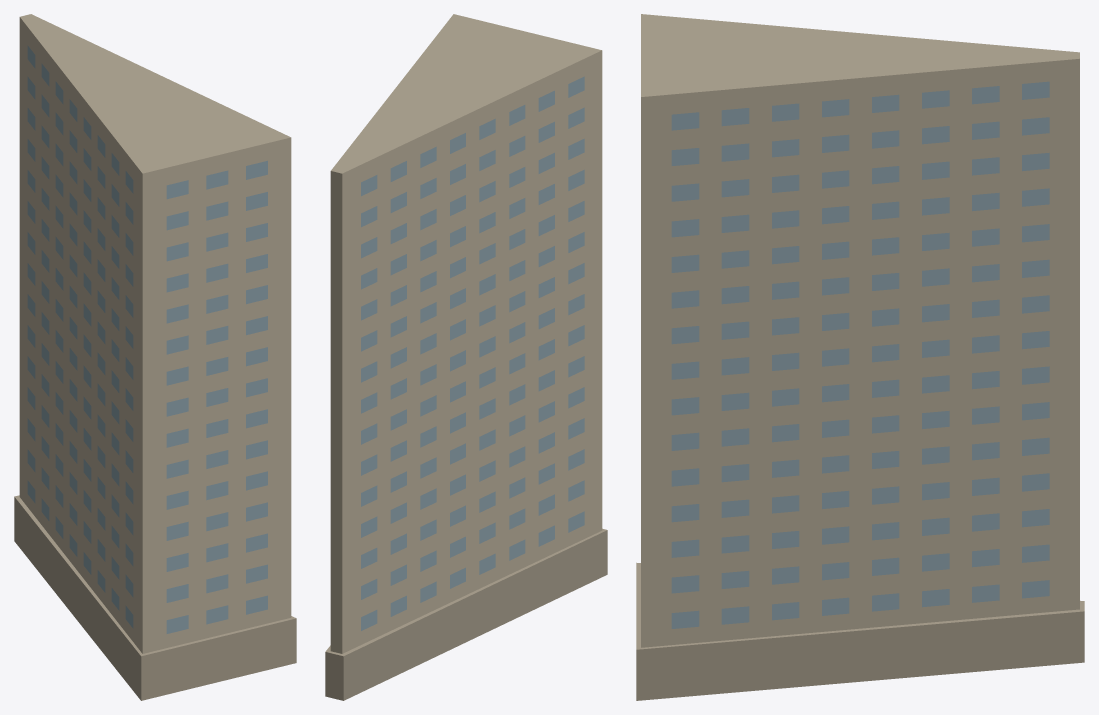
3 views of the same model, side by side, from view 1: azimuth 30°, elevation 25°; view 2: azimuth 150°, elevation 25°; view 3: azimuth 270°, elevation 25° (orthographic). The views are drawn at different scales.
Parts seen in each view (by area): view 1: wedge-building-lod1; view 2: wedge-building-lod1; view 3: wedge-building-lod1.
Boxes of the visible parts, x1,y1,x2,y2 form: wedge-building-lod1: (14,14,296,700); wedge-building-lod1: (325,14,607,700); wedge-building-lod1: (636,14,1084,700).
Size of the model in its own units: 32.63 by 105 by 71.04.
